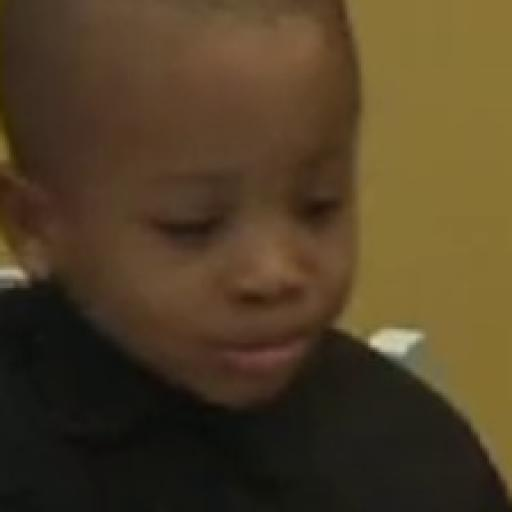Autism: (12, 0, 452, 438)
